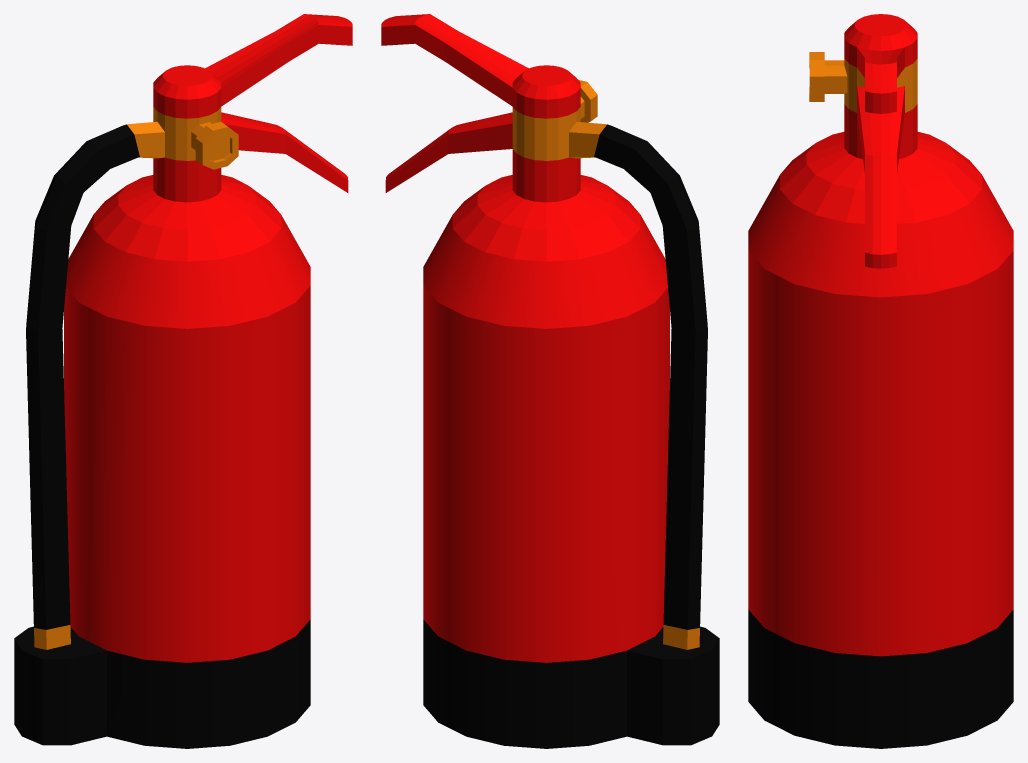
File: Fire_extinguisher.fbx
3 renders of one model, left to right at view 1: azimuth 30°, elevation 25°; view 2: azimuth 150°, elevation 25°; view 3: azimuth 270°, elevation 25°, orthographic. The views are drawn at different scales.
Visible parts, largest first — view 1: Fire Extinguisher; view 2: Fire Extinguisher; view 3: Fire Extinguisher.
Boxes of the visible parts, x1,y1,x2,y2 form: Fire Extinguisher: (14, 14, 352, 748); Fire Extinguisher: (381, 14, 719, 748); Fire Extinguisher: (748, 14, 1013, 748).
Size of the model in its own units: 58.1 by 109 by 37.85.
